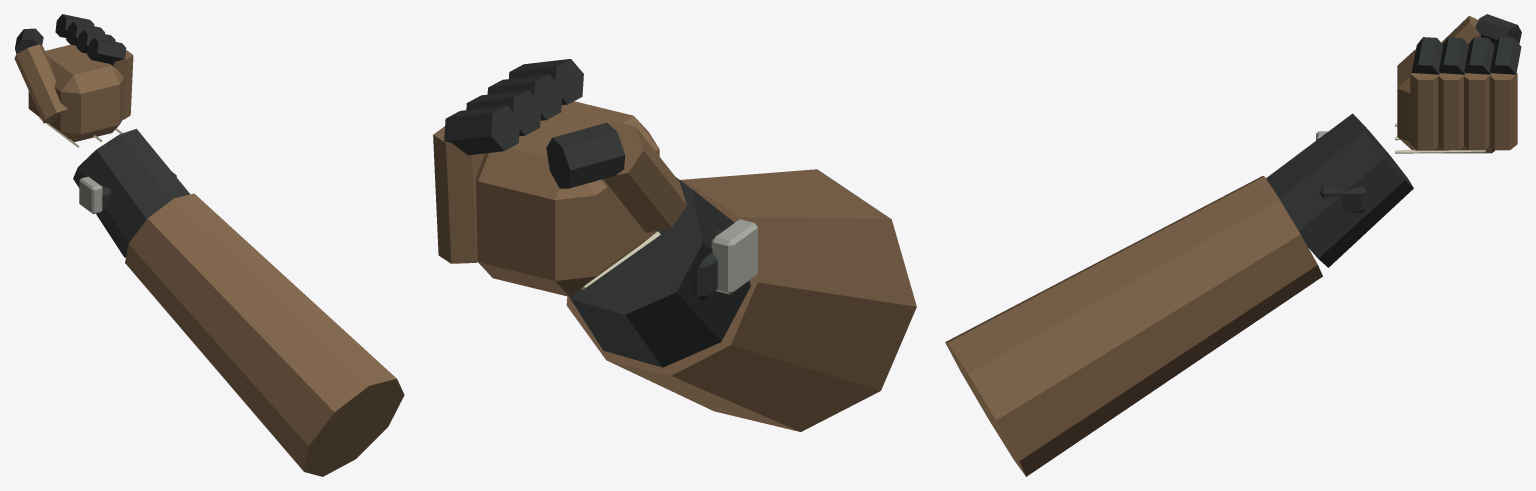
File: glove.glb
The picture shows the model from 3 angles, left to right: view 1: azimuth 30°, elevation 25°; view 2: azimuth 150°, elevation 25°; view 3: azimuth 270°, elevation 25°; orthographic projection. The views are drawn at different scales.
Parts seen in each view (by area): view 1: sleeve, wrist, palm, thumb, curled tip 3, buckle, finger 3, thumb tip, curled tip 2, curled tip 0, curled tip 1; view 2: sleeve, palm, wrist, thumb, finger 0, thumb tip, curled tip 0, buckle, curled tip 1, curled tip 2, curled tip 3, wrist strap; view 3: sleeve, wrist, finger 0, finger 3, finger 2, finger 1, palm, curled tip 3, curled tip 0, curled tip 2, curled tip 1, thumb tip (+1 smaller).
Part boxes in pixels (x1,y1,x2,y2): sleeve: (125, 193, 404, 476); wrist: (73, 129, 189, 257); palm: (28, 44, 123, 141); thumb: (14, 44, 67, 123); curled tip 3: (87, 37, 126, 64); buckle: (79, 176, 102, 214); finger 3: (110, 50, 133, 119); thumb tip: (15, 28, 43, 53); curled tip 2: (76, 29, 115, 53); curled tip 0: (55, 14, 94, 37); curled tip 1: (66, 22, 104, 45); sleeve: (566, 169, 916, 431); palm: (476, 101, 659, 296); wrist: (569, 177, 750, 367); thumb: (601, 120, 686, 232); finger 0: (433, 126, 484, 263); thumb tip: (546, 122, 625, 188); curled tip 0: (444, 105, 520, 155); buckle: (711, 219, 757, 294); curled tip 1: (466, 90, 541, 136); curled tip 2: (487, 74, 562, 120); curled tip 3: (509, 59, 583, 105); wrist strap: (691, 229, 722, 301); sleeve: (945, 176, 1322, 476); wrist: (1266, 113, 1413, 267); finger 0: (1488, 73, 1517, 150); finger 3: (1410, 73, 1438, 150); finger 2: (1437, 73, 1465, 150); finger 1: (1463, 73, 1489, 150); palm: (1397, 49, 1494, 153); curled tip 3: (1411, 37, 1443, 74); curled tip 0: (1490, 37, 1521, 74); curled tip 2: (1439, 37, 1468, 74); curled tip 1: (1464, 37, 1494, 74); thumb tip: (1475, 14, 1521, 43).
Size of the model in its own units: 0.2047 by 0.3369 by 0.4505.
